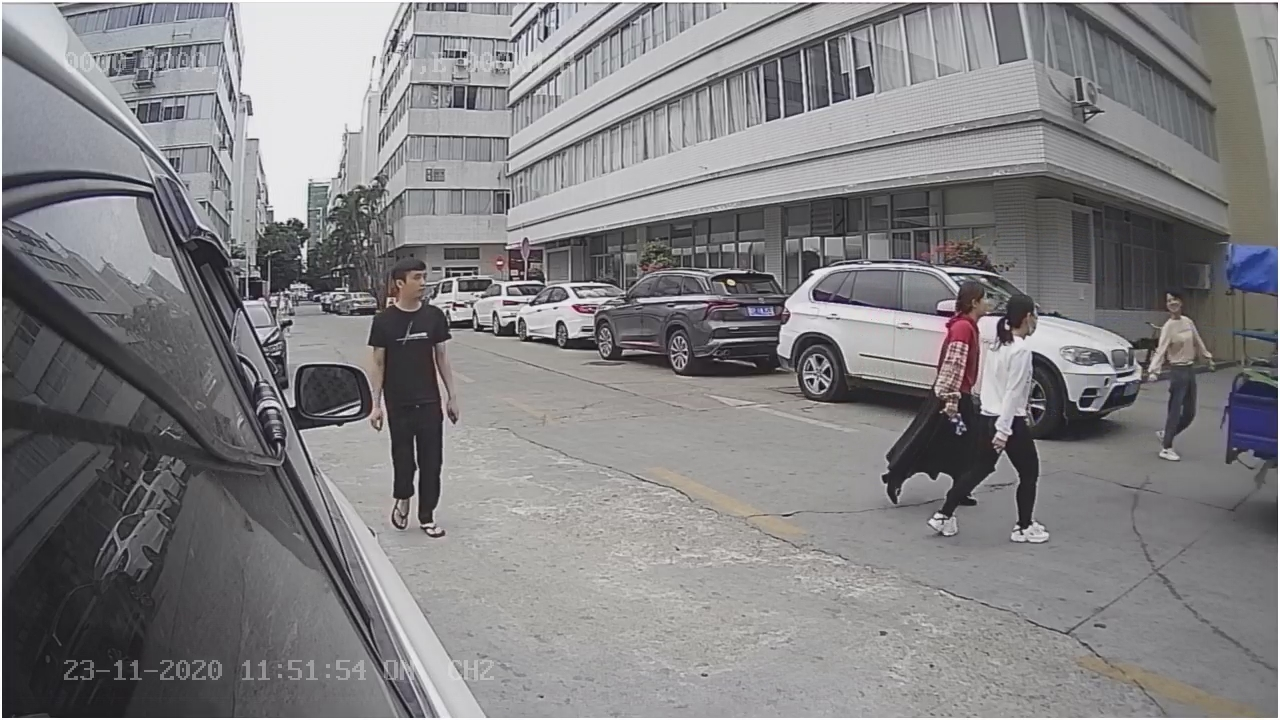person: (925, 287, 1061, 546), (367, 247, 467, 539), (1148, 281, 1206, 463)
